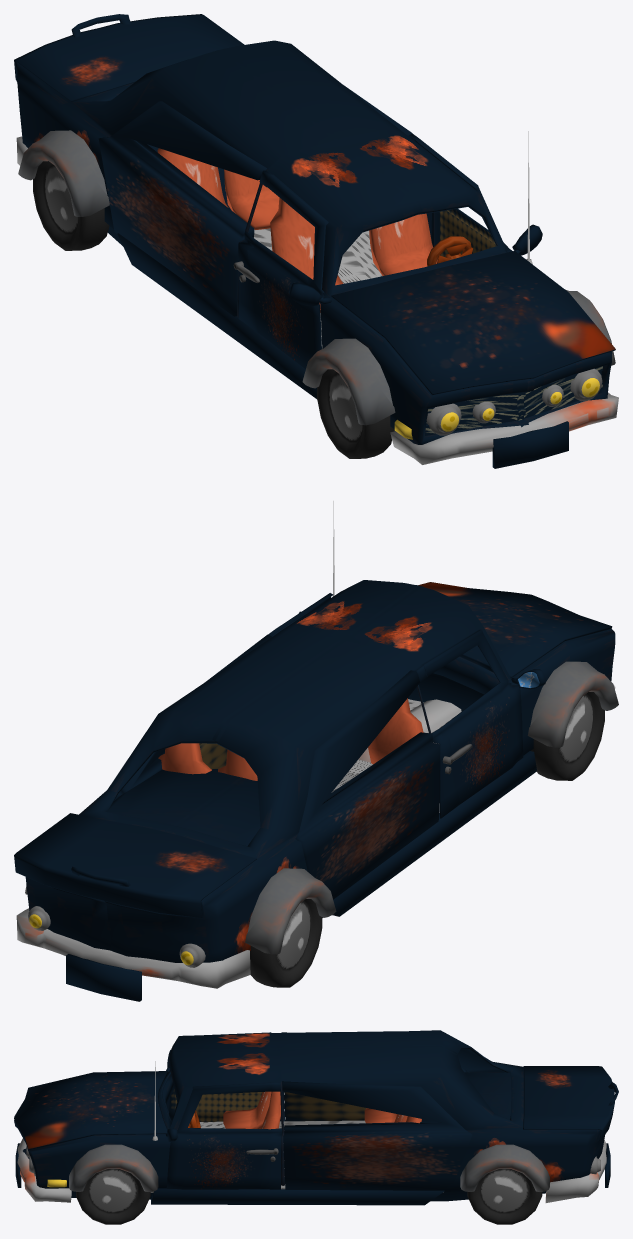
The model's file is CarroParaCutscene.fbx.
The picture shows the model from 3 angles, top to bottom: view 1: azimuth 30°, elevation 25°; view 2: azimuth 150°, elevation 25°; view 3: azimuth 270°, elevation 25°; orthographic projection. The views are drawn at different scales.
Visible parts, largest first — view 1: carro.006, carro.003, Porta4, carro.004, Cylinder.002, Cube.001, Porta2, Rodas, Cube.006, Cylinder.003, Cube.004, Porta1 (+3 smaller); view 2: carro.006, Porta4, carro.004, Porta2, Cylinder.002, Rodas, carro.003, Cube.003, Cube.001, Cube.004, Cube.007, Porta3 (+1 smaller); view 3: carro.006, Porta3, carro.003, Porta1, Rodas, carro.004, Cylinder.002, Cube.001, Porta4, Porta2, Cube.003, Cube.006 (+2 smaller).
Boxes of the visible parts, bbox=[...] form: carro.006: bbox=[15, 40, 612, 444]; carro.003: bbox=[331, 251, 615, 395]; Porta4: bbox=[98, 101, 266, 316]; carro.004: bbox=[14, 14, 244, 101]; Cylinder.002: bbox=[18, 130, 615, 425]; Cube.001: bbox=[157, 148, 438, 312]; Porta2: bbox=[233, 170, 328, 369]; Rodas: bbox=[33, 161, 394, 458]; Cube.006: bbox=[390, 392, 618, 464]; Cylinder.003: bbox=[426, 368, 602, 435]; Cube.004: bbox=[492, 421, 568, 468]; Porta1: bbox=[409, 133, 512, 257]; carro.006: bbox=[25, 580, 615, 962]; Porta4: bbox=[295, 670, 440, 899]; carro.004: bbox=[14, 813, 256, 917]; Porta2: bbox=[414, 629, 523, 818]; Cylinder.002: bbox=[25, 661, 618, 954]; Rodas: bbox=[250, 692, 604, 987]; carro.003: bbox=[418, 582, 612, 677]; Cube.003: bbox=[16, 908, 250, 988]; Cube.001: bbox=[158, 698, 423, 780]; Cube.004: bbox=[66, 954, 141, 1001]; Cube.007: bbox=[331, 699, 461, 812]; Porta3: bbox=[114, 634, 272, 800]; carro.006: bbox=[14, 1030, 604, 1205]; Porta3: bbox=[282, 1081, 472, 1191]; carro.003: bbox=[14, 1071, 168, 1150]; Porta1: bbox=[166, 1082, 282, 1189]; Rodas: bbox=[76, 1169, 542, 1224]; carro.004: bbox=[523, 1066, 618, 1142]; Cylinder.002: bbox=[69, 1144, 549, 1191]; Cube.001: bbox=[223, 1091, 421, 1129]; Porta4: bbox=[282, 1032, 469, 1121]; Porta2: bbox=[169, 1032, 280, 1121]; Cube.003: bbox=[545, 1140, 606, 1202]; Cube.006: bbox=[17, 1138, 71, 1202].
Size of the model in its own units: 233 by 221 by 697.
